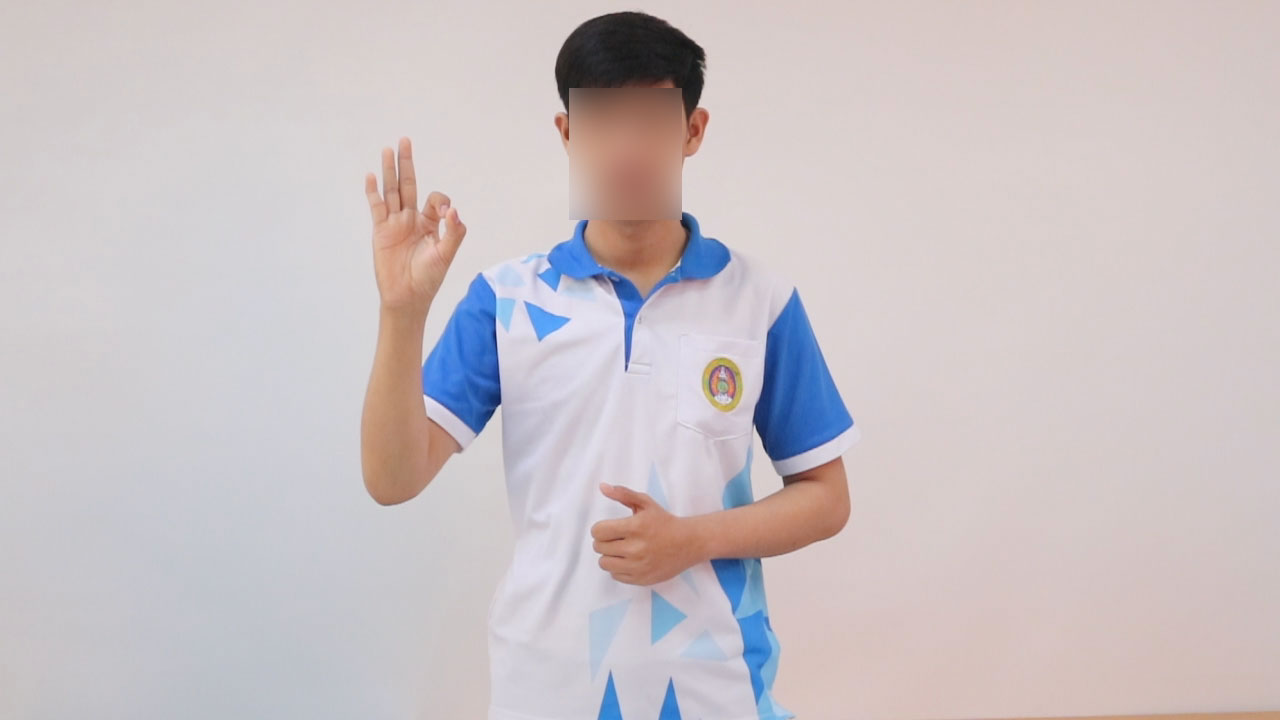for: (357, 125, 474, 329)
